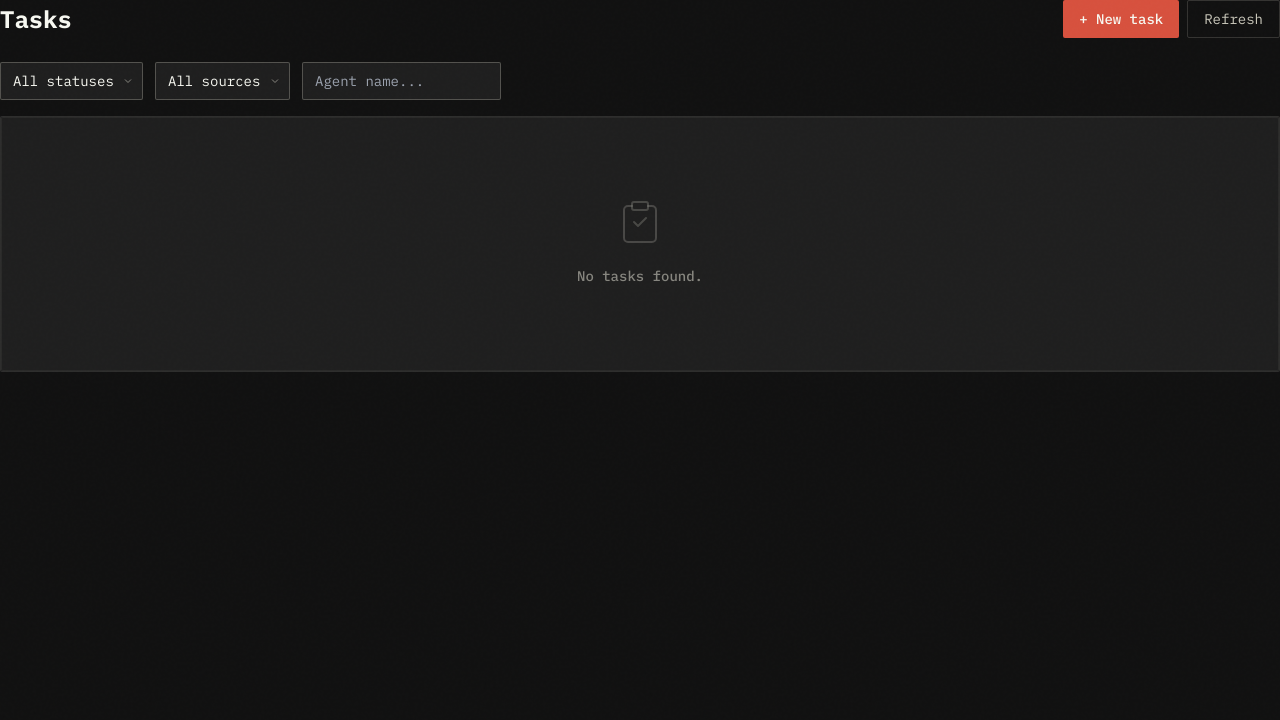
Scenario: TasksPage › blocks Create submit when title is empty
The width and height of the screenshot is (1280, 720).
Click the button "+ New task" at (1121, 19), box [1063,0,1179,38]
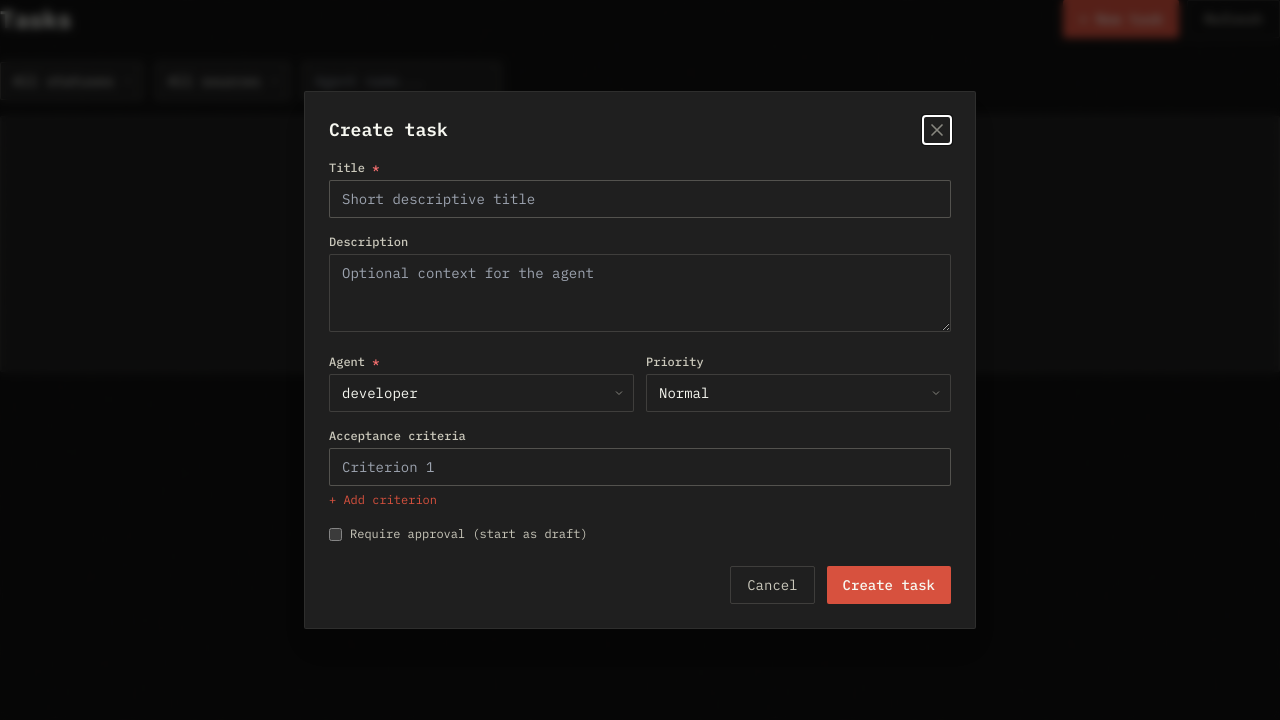
Expected: the heading "Create task" is shown, [329,116,448,144]
Note: Submit without title.
Click the button "Create task" at (889, 585), box [827,566,951,604]
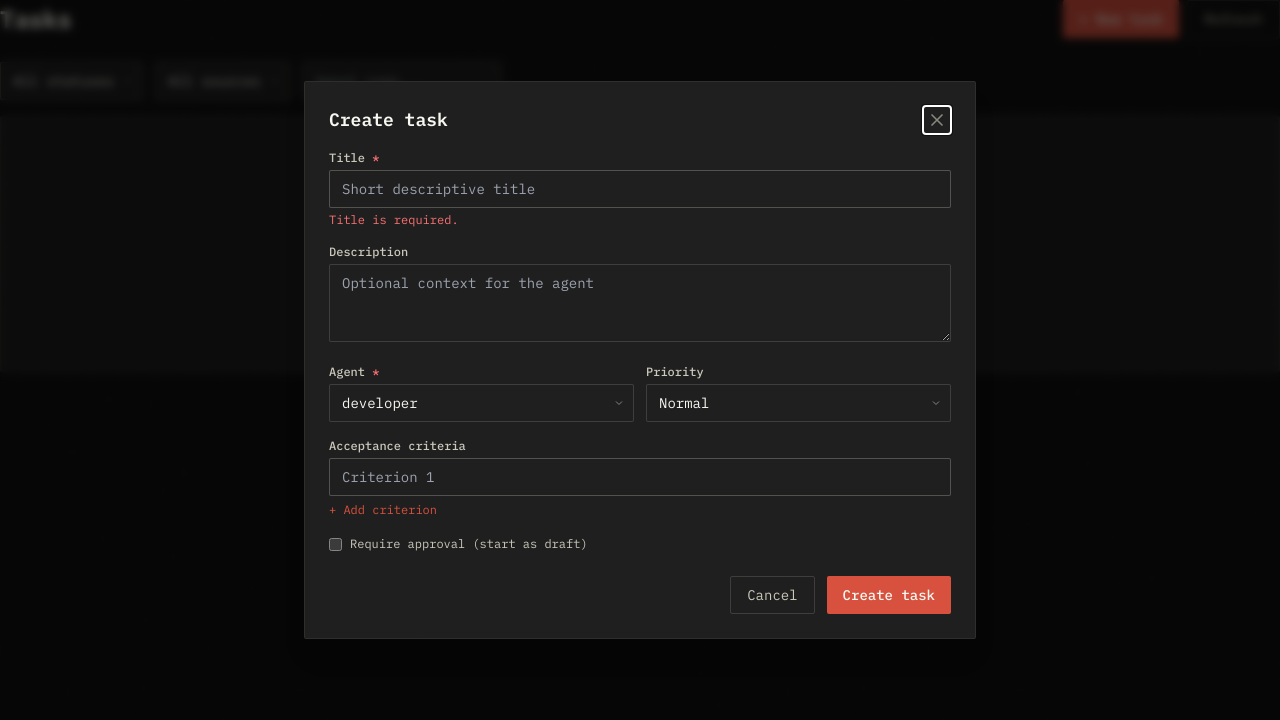
Expected: the text "Title is required." is shown, [329,212,459,227]
